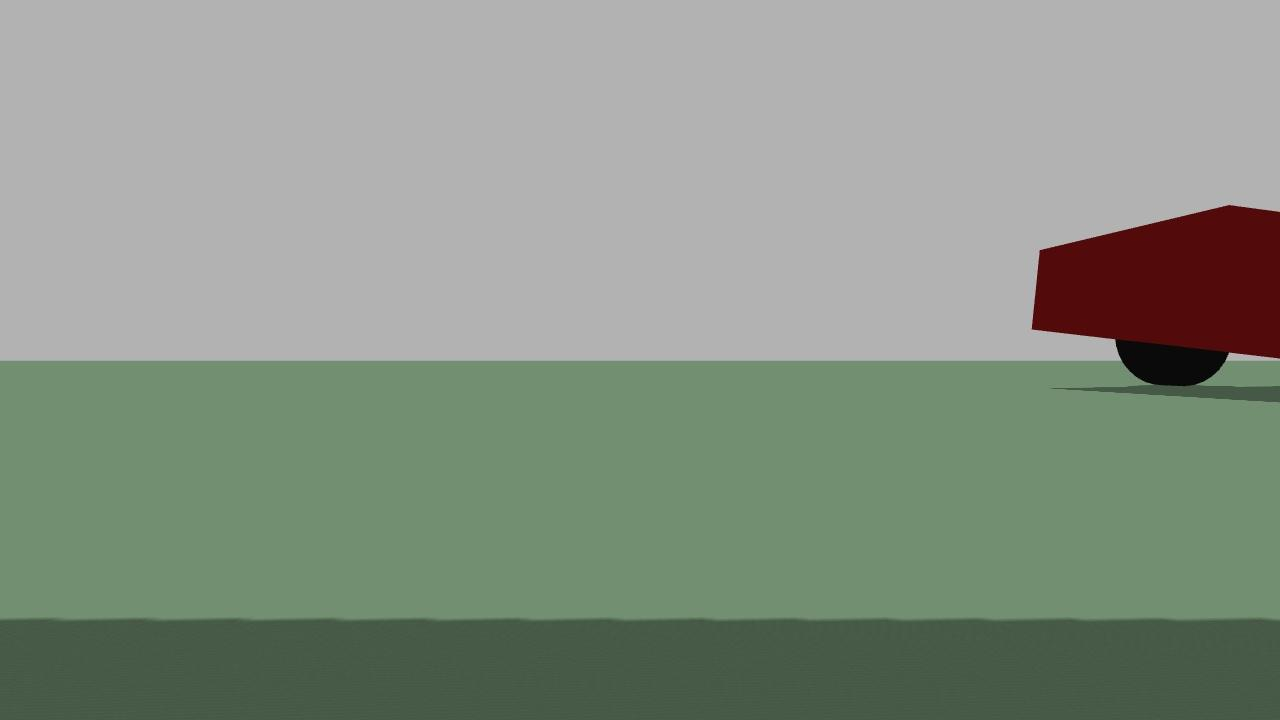ground_vehicle: (996, 156, 1280, 435)
